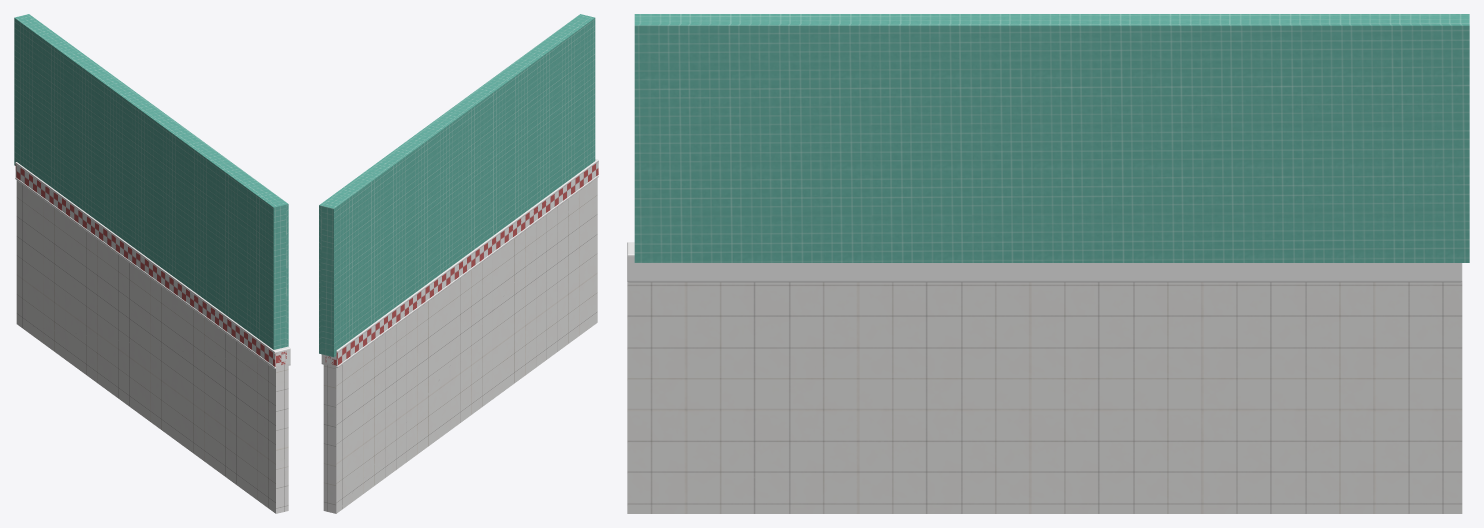
The model's file is kitchen_wall.fbx.
3 views of the same model, side by side, from view 1: azimuth 30°, elevation 25°; view 2: azimuth 150°, elevation 25°; view 3: azimuth 270°, elevation 25° (orthographic). The views are drawn at different scales.
Visible parts, largest first — view 1: wall2wall7; view 2: wall2wall7; view 3: wall2wall7.
Part boxes in pixels (x1,y1,x2,y2): wall2wall7: [14, 14, 290, 513]; wall2wall7: [319, 14, 598, 513]; wall2wall7: [627, 14, 1469, 513].
Size of the model in its own units: 57.73 by 1036 by 1614.
